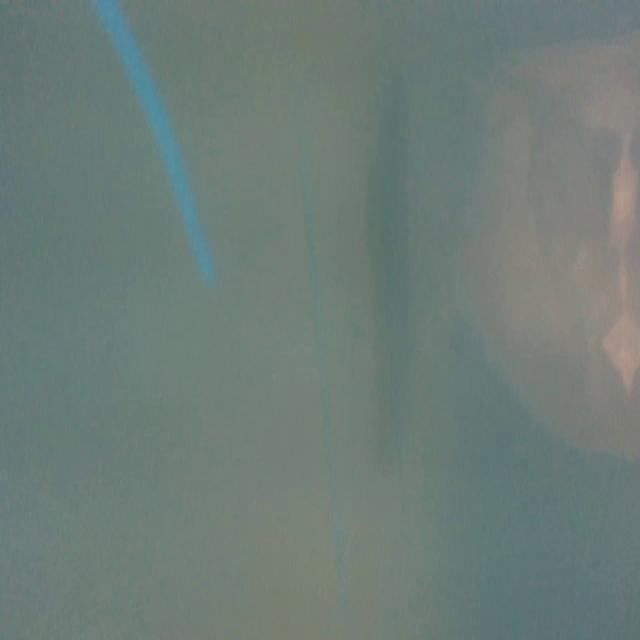plastic bags: (463, 52, 640, 453)
